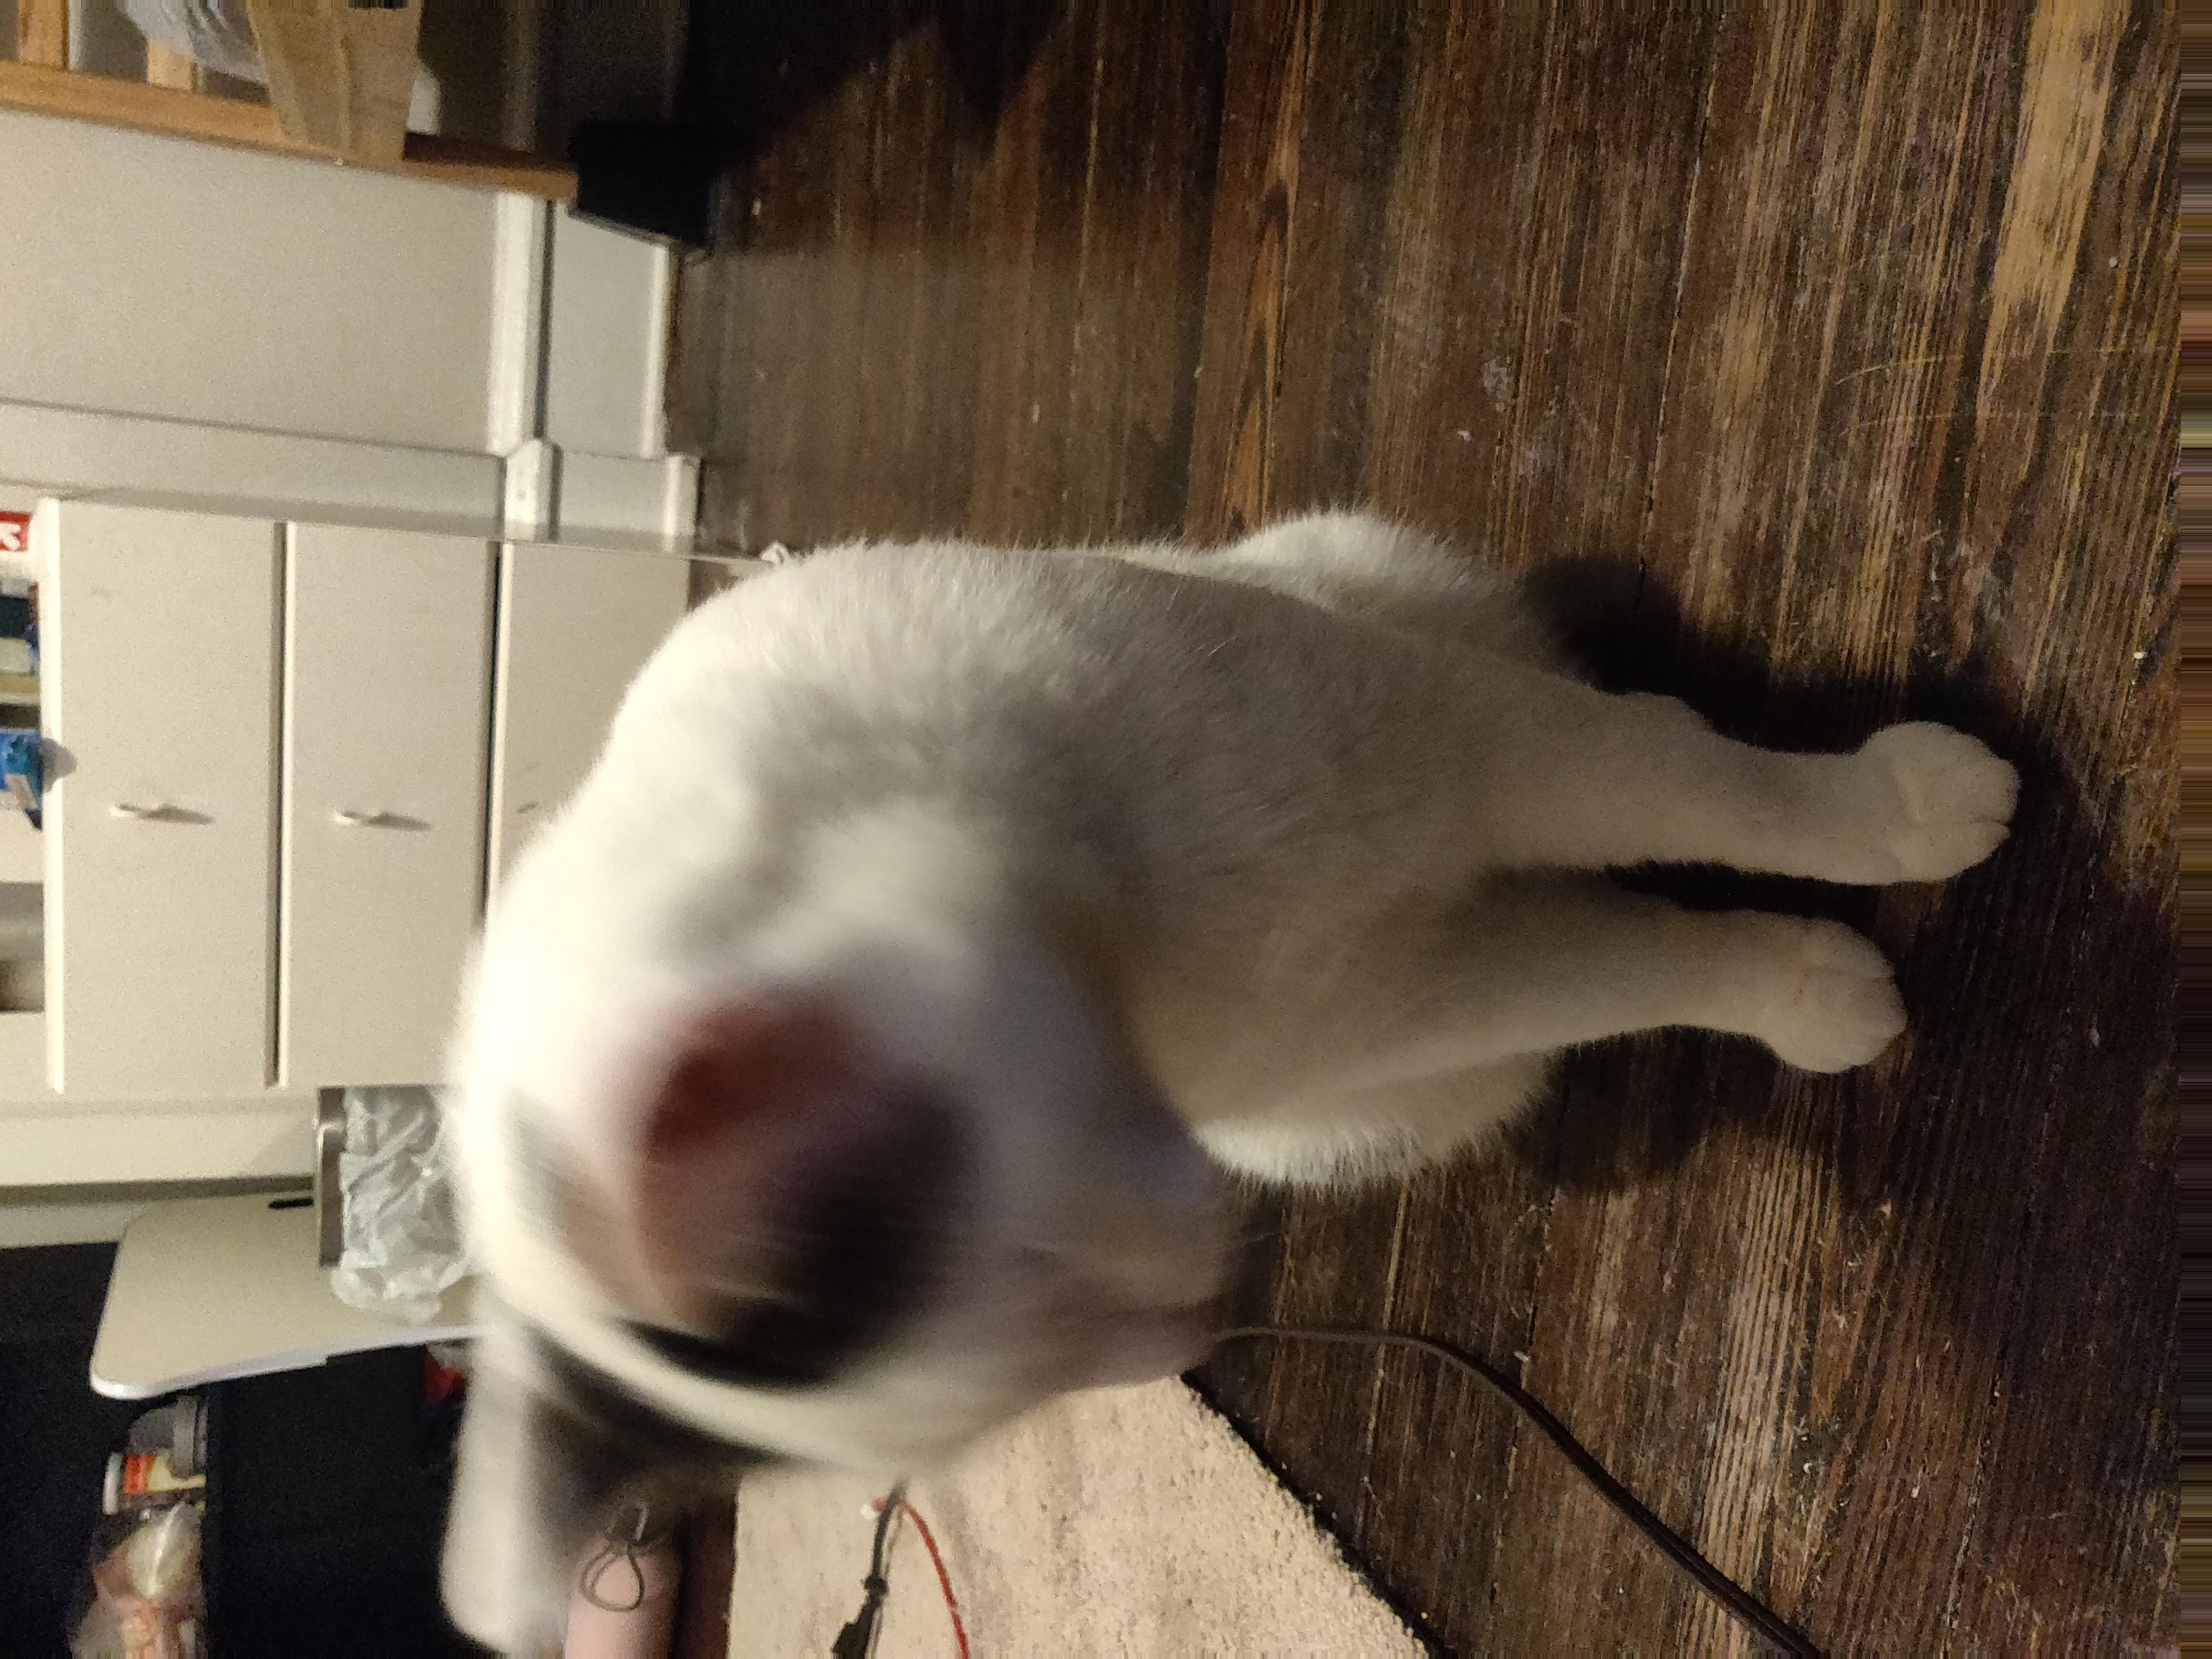cat: (438, 505, 2020, 1659)
